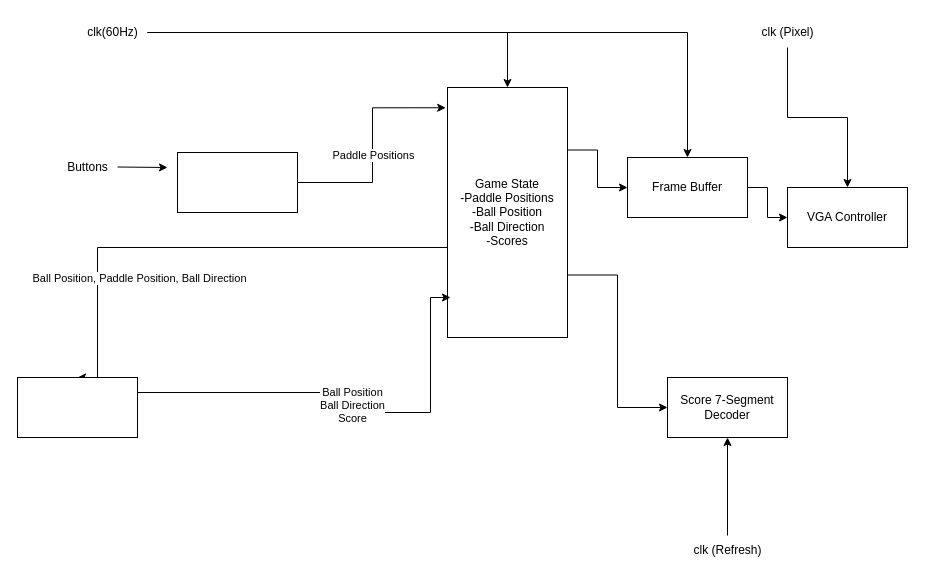
The diagram is 925 pixels wide and 582 high, and some of its shapes have lost their labels. Here are the shapes that lost their labels. From the top down, the centre of each, then its label:
point 237,182: Paddle 1 Movement
point 77,407: Ball Movement
